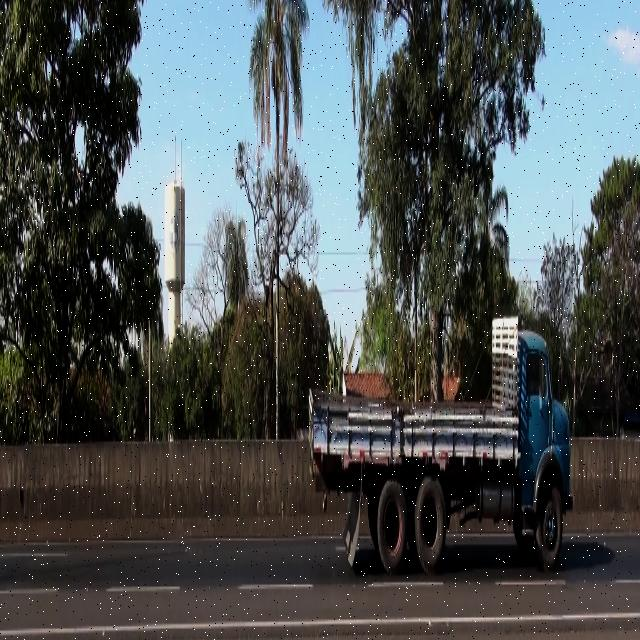-axle: (412, 471, 448, 572), (377, 479, 406, 577), (537, 474, 564, 564)
